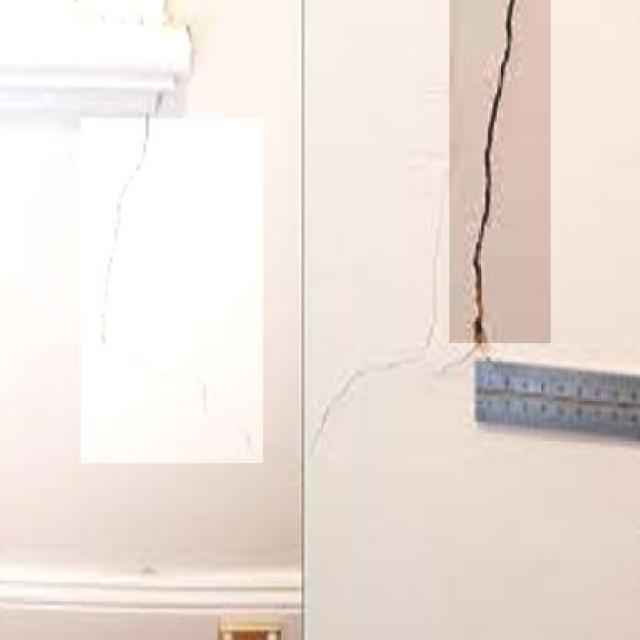Crack: (72, 113, 274, 465), (324, 158, 453, 436), (464, 0, 543, 336)
